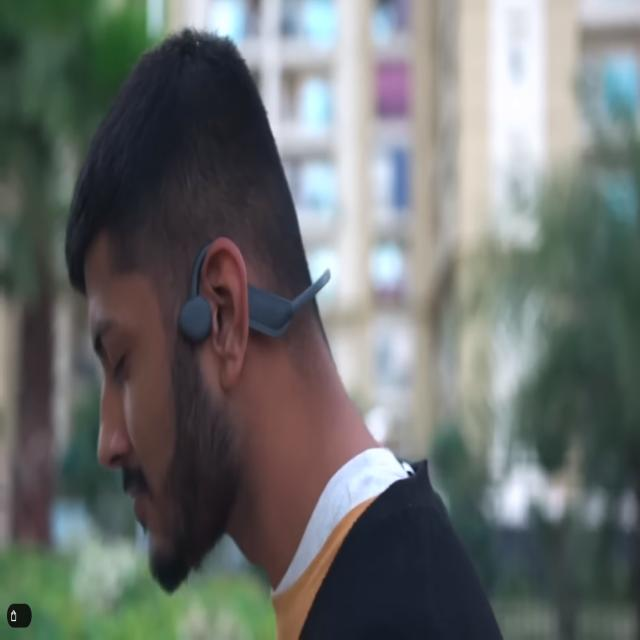Neckband: (173, 238, 334, 350)
